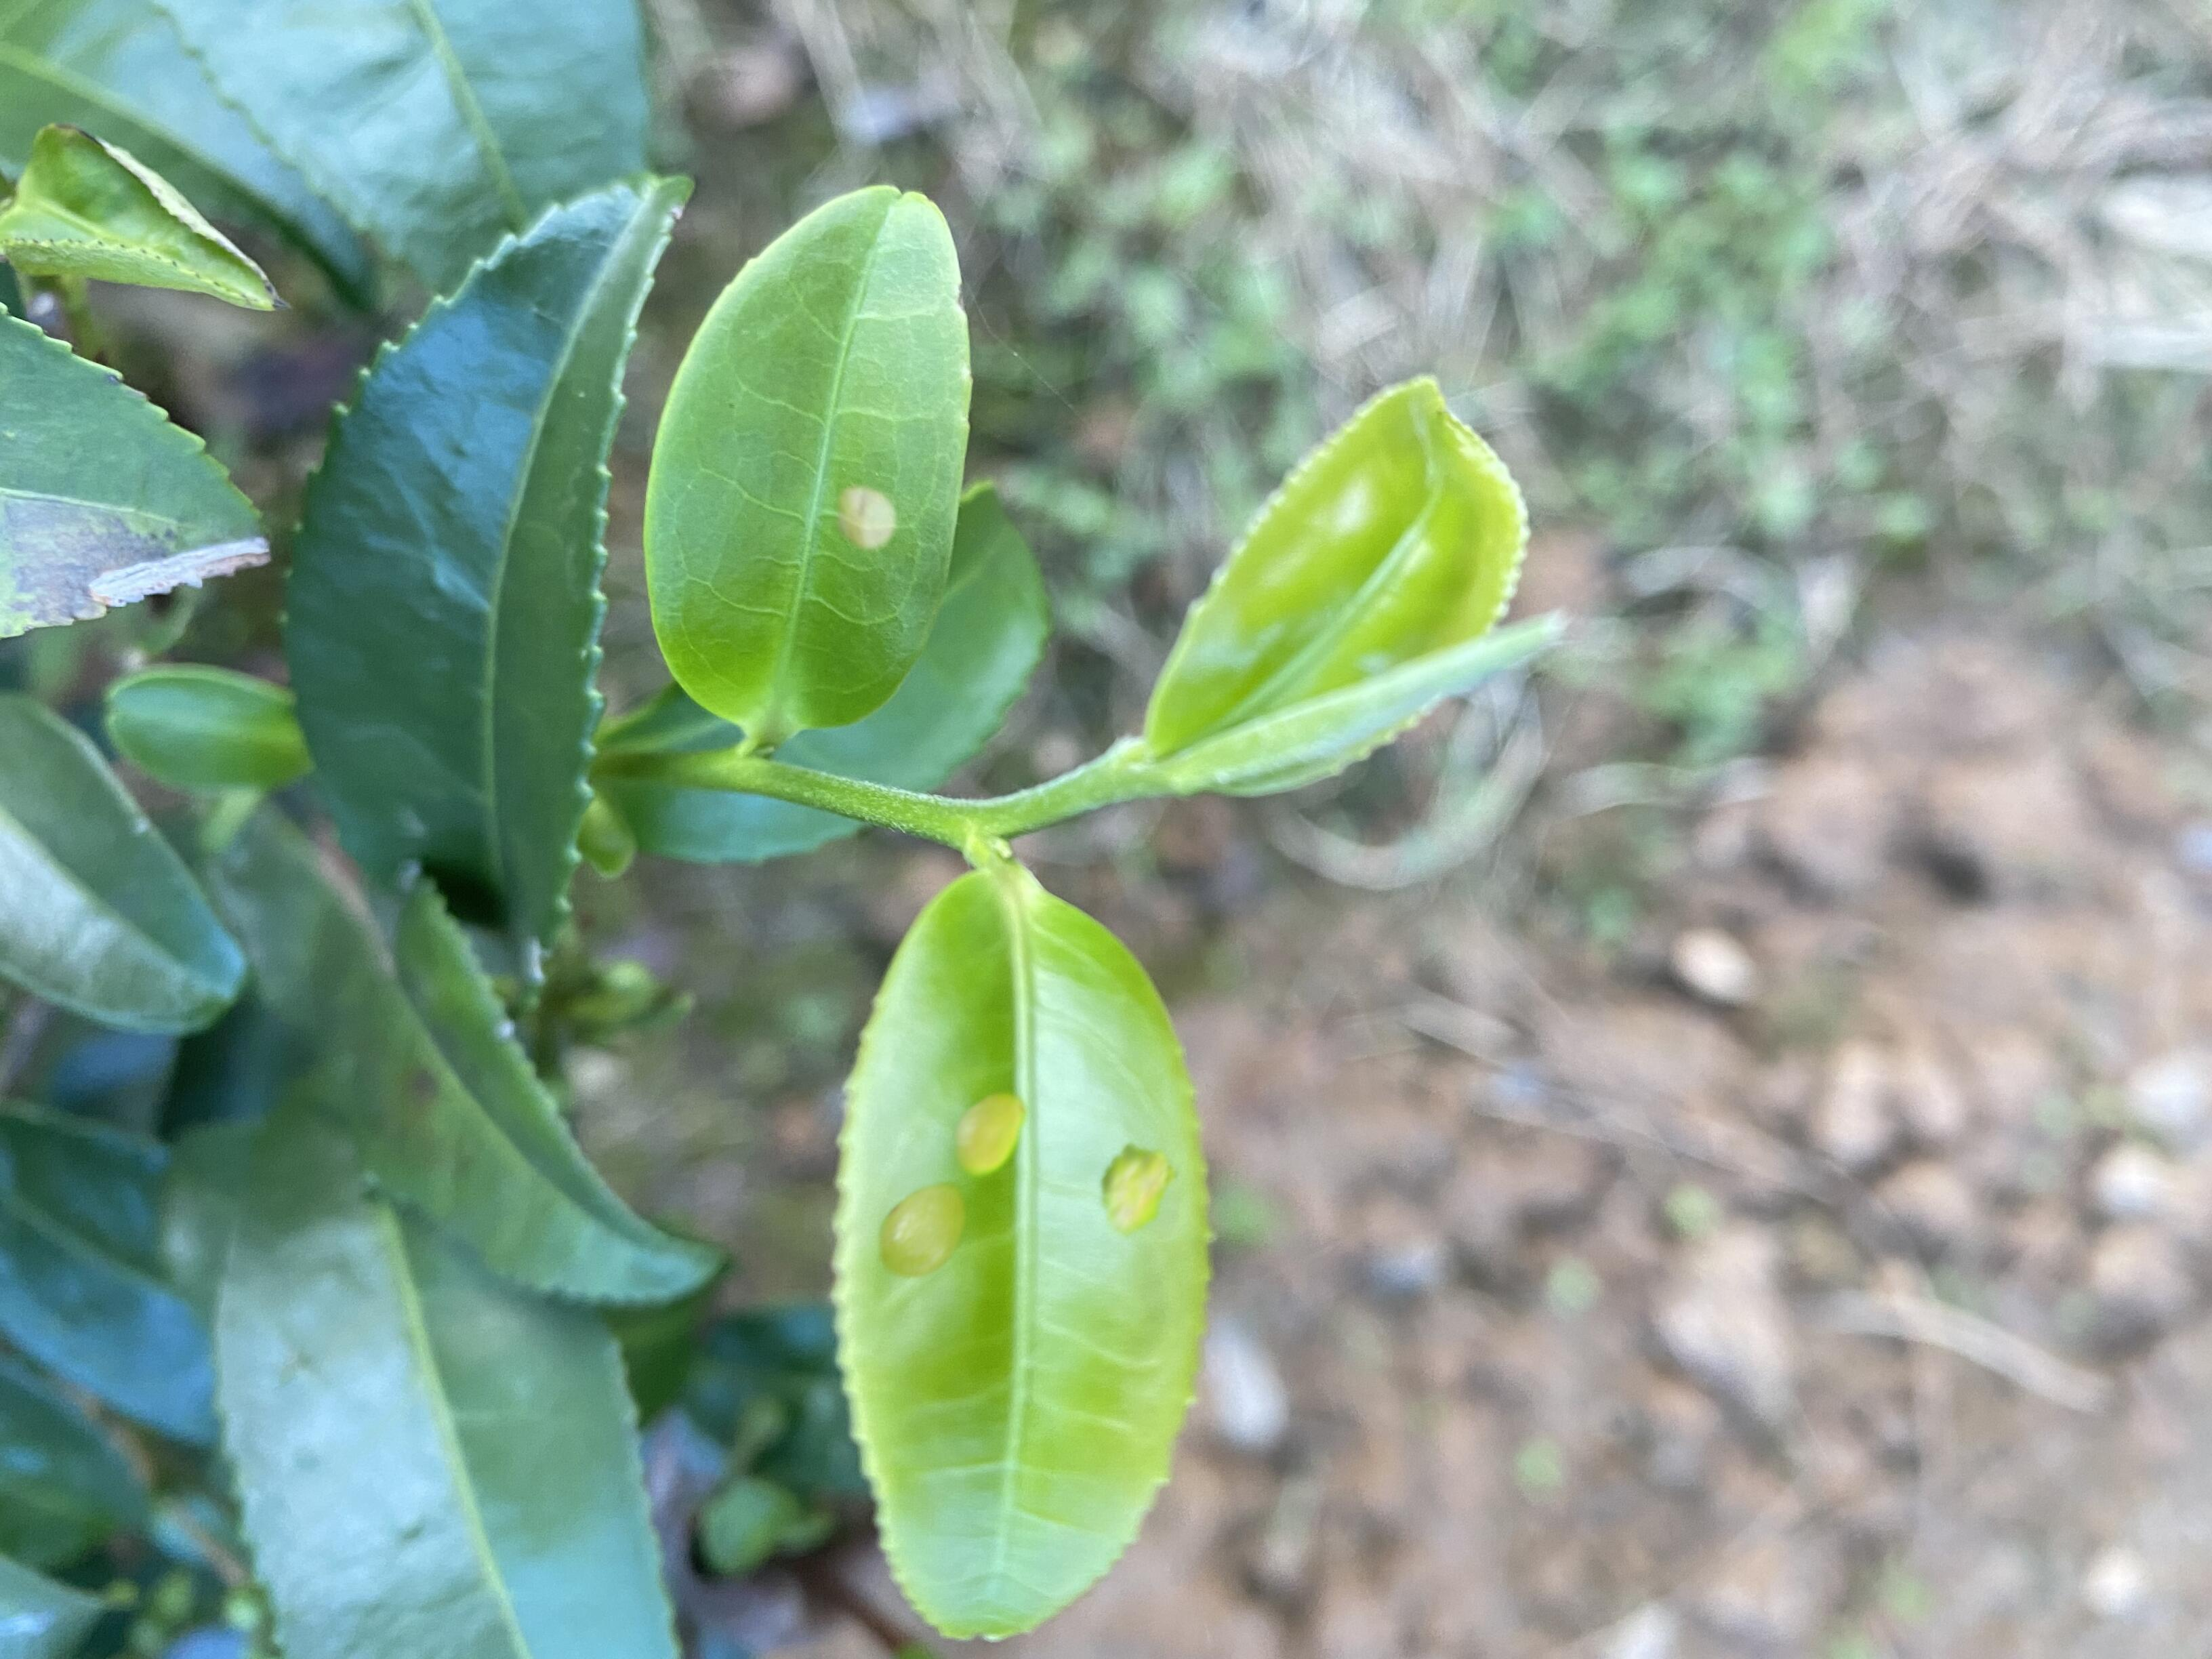chabing_high: (826, 854, 1212, 1647)
chabing_low: (641, 186, 974, 732)
healthy: (280, 169, 698, 951), (1150, 375, 1531, 803)
tanju_high: (2, 301, 275, 640)
